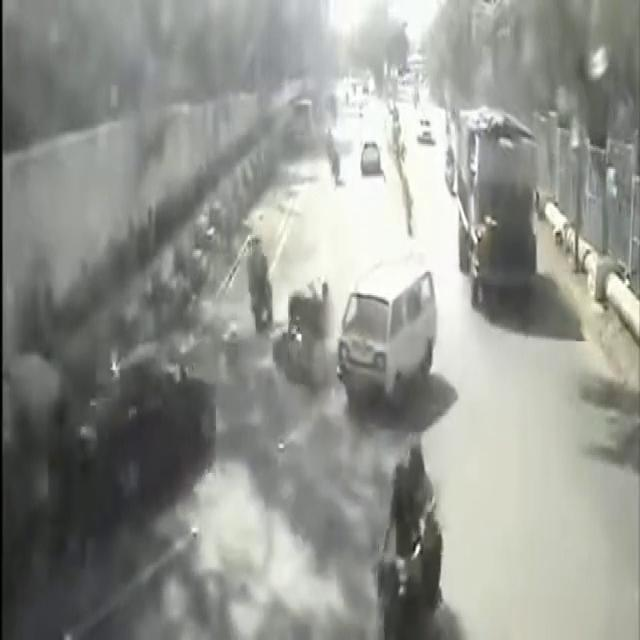accident: (275, 270, 333, 402)
